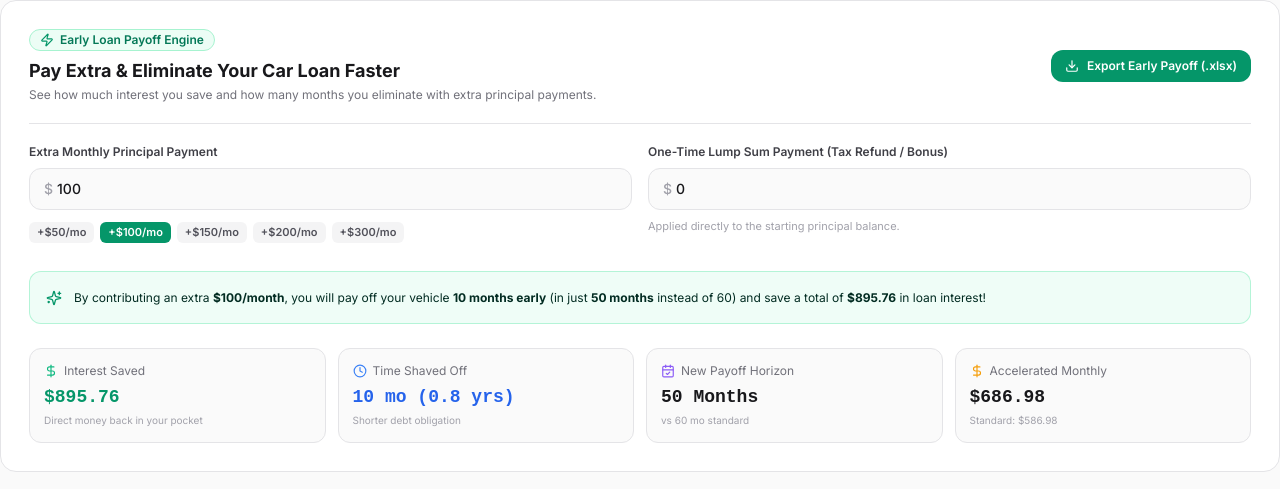
CarLoanEarlyPayoffCard Component › updates payoff calculation when clicking quick preset buttons
Click the button "+$200/mo" at (289, 232), box x1=253 y1=222 x2=326 y2=242
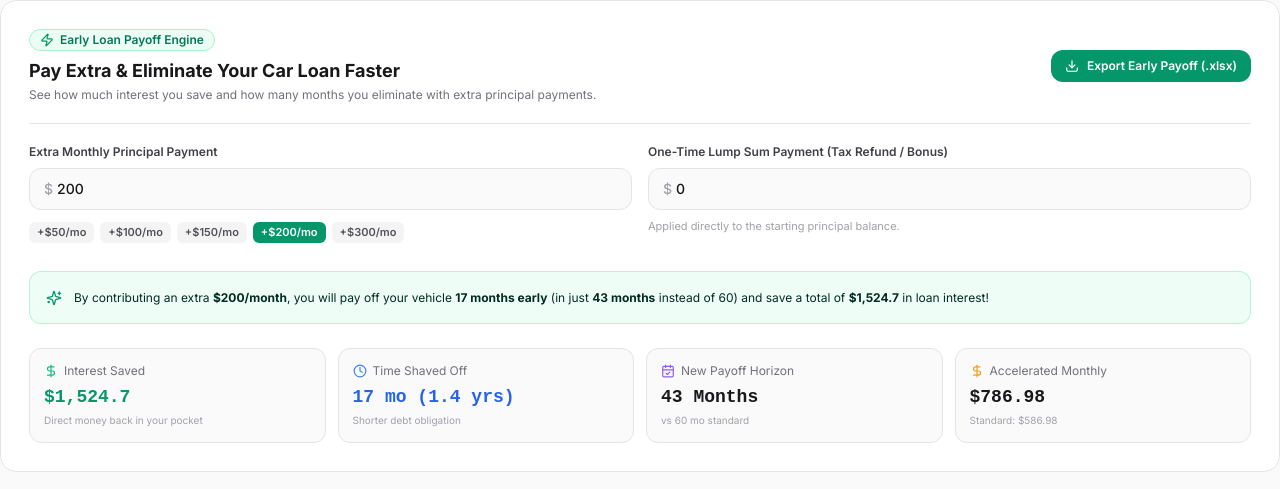
Result: the number field labelled "Extra Monthly Principal Payment" holds "200" at x1=57 y1=169 x2=631 y2=209
